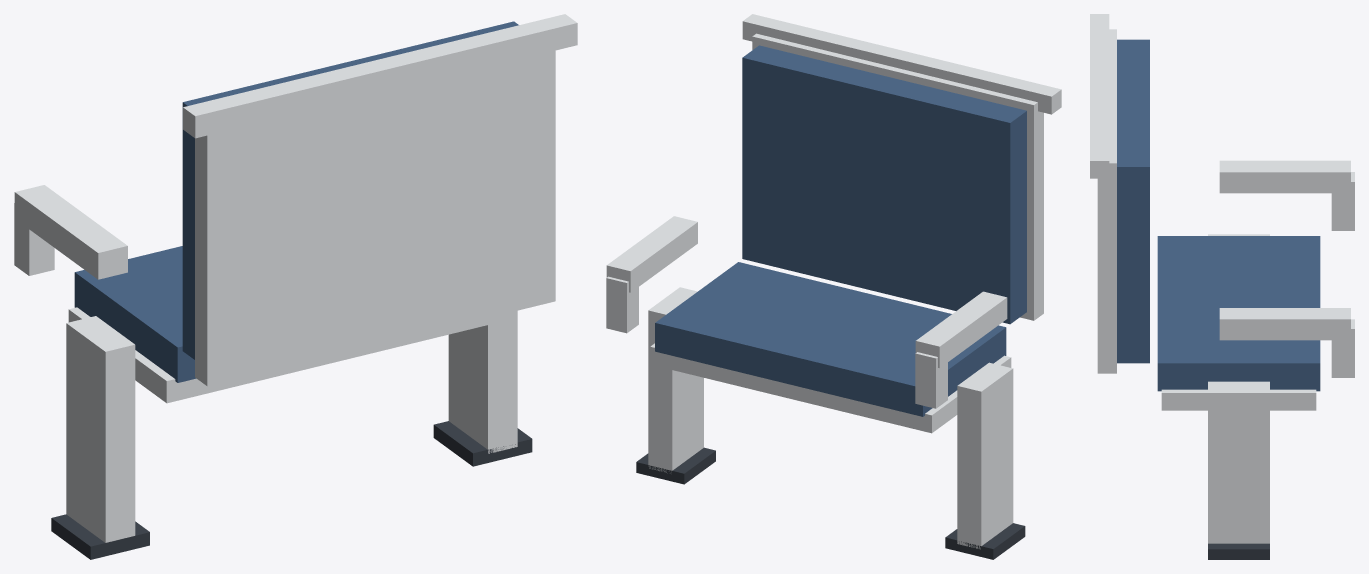
The model's file is bench-seat-1.glb.
The picture shows the model from 3 angles, left to right: view 1: azimuth 30°, elevation 25°; view 2: azimuth 150°, elevation 25°; view 3: azimuth 270°, elevation 25°; orthographic projection. The views are drawn at different scales.
Parts seen in each view (by area): view 1: BenchSeat1; view 2: BenchSeat1; view 3: BenchSeat1.
Boxes of the visible parts, <box> form: BenchSeat1: <box>14,14,577,559</box>; BenchSeat1: <box>606,14,1061,559</box>; BenchSeat1: <box>1090,14,1354,559</box>.
Bounding box in the file's own units: 1.04 × 1.11 × 0.685.
